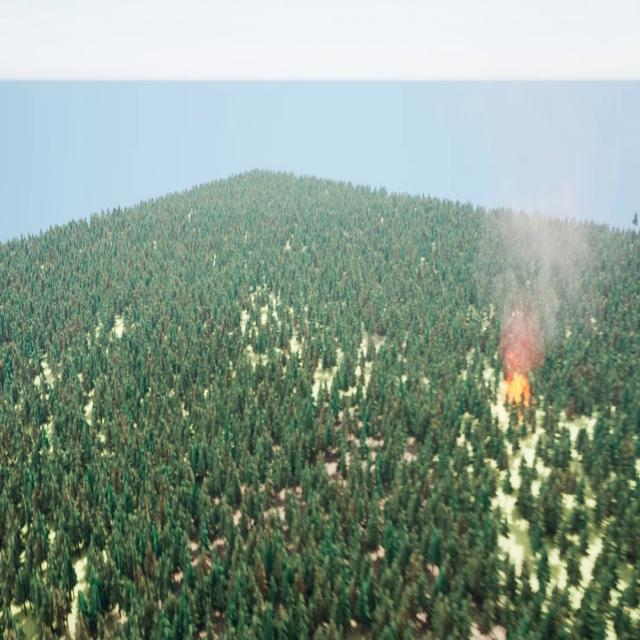fire: (502, 363, 536, 410)
smoke: (487, 185, 598, 367)
